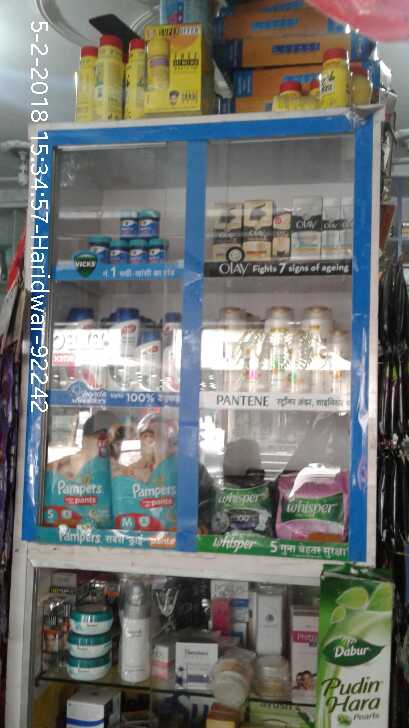vicks: (85, 205, 169, 268)
